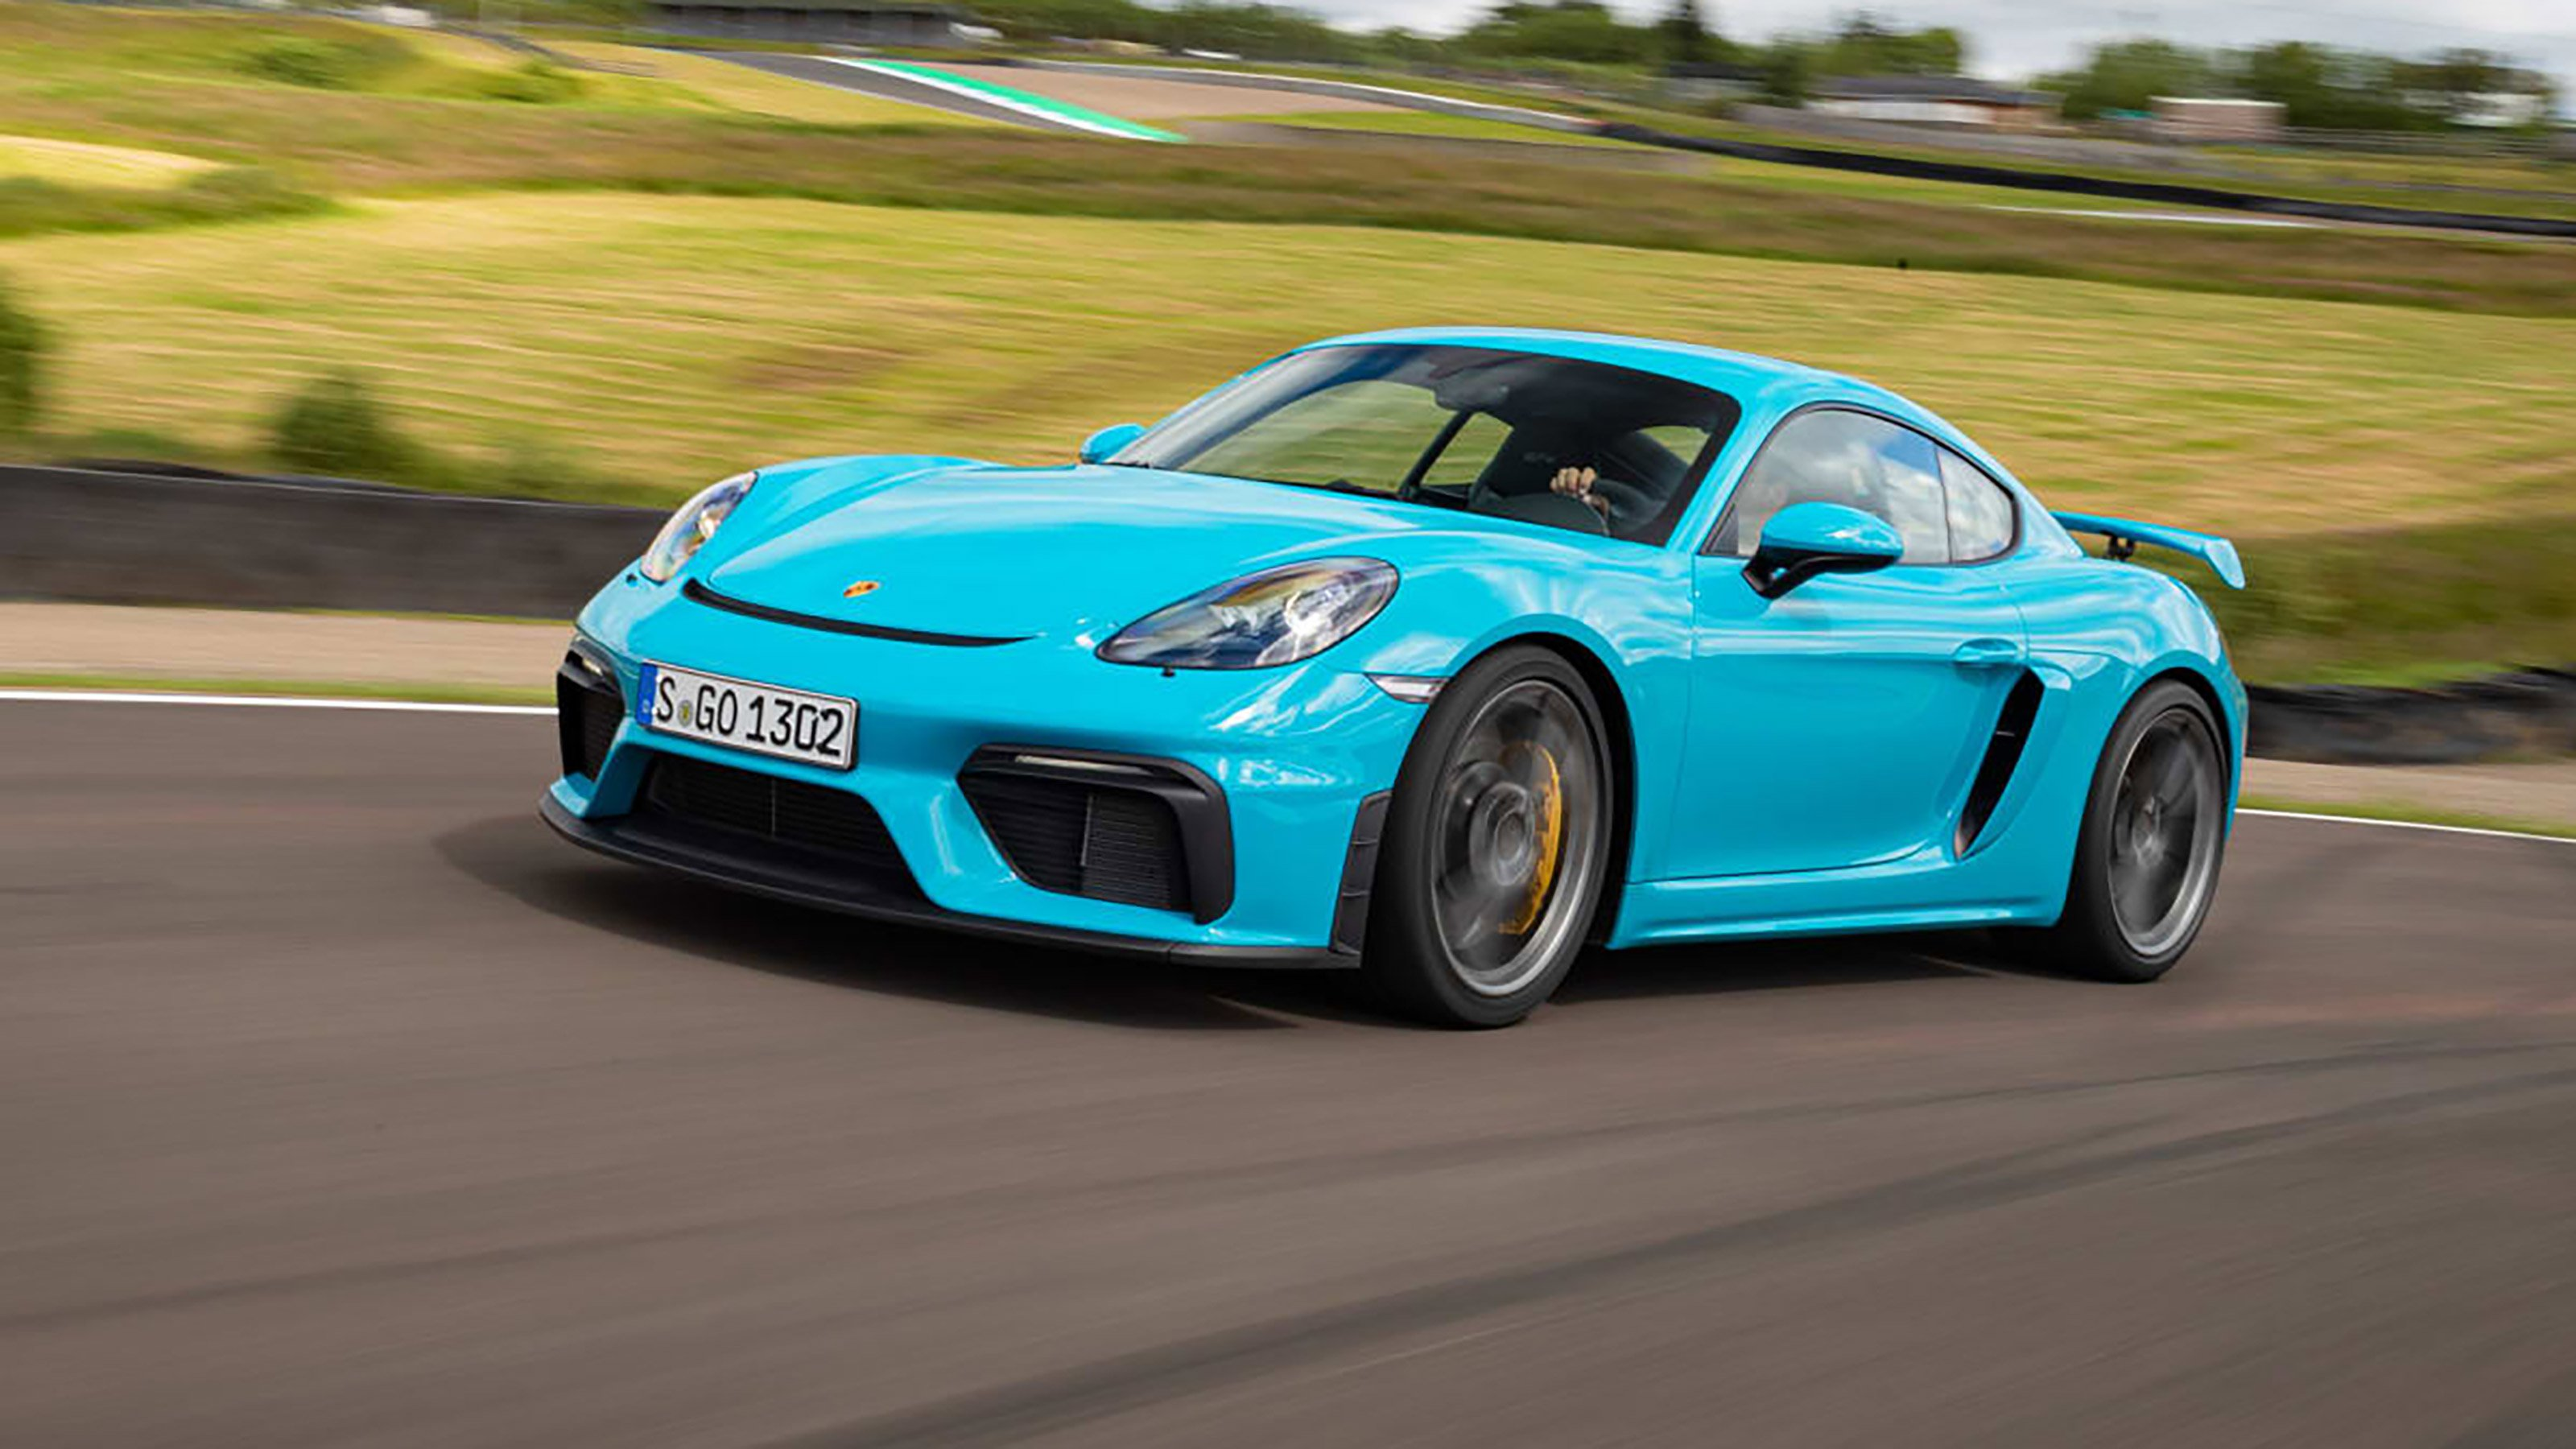car: (589, 278, 2289, 1028)
